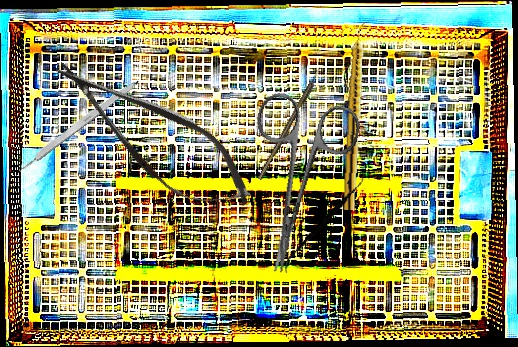Handpiece: (342, 21, 369, 211)
Hook Surgical: (256, 66, 324, 181)
Iris Scissors: (224, 88, 364, 284)
Micro Scissor: (36, 37, 268, 233)
Scalpel Handle: (14, 75, 142, 175)
Spatula Surgical: (284, 160, 366, 284)
